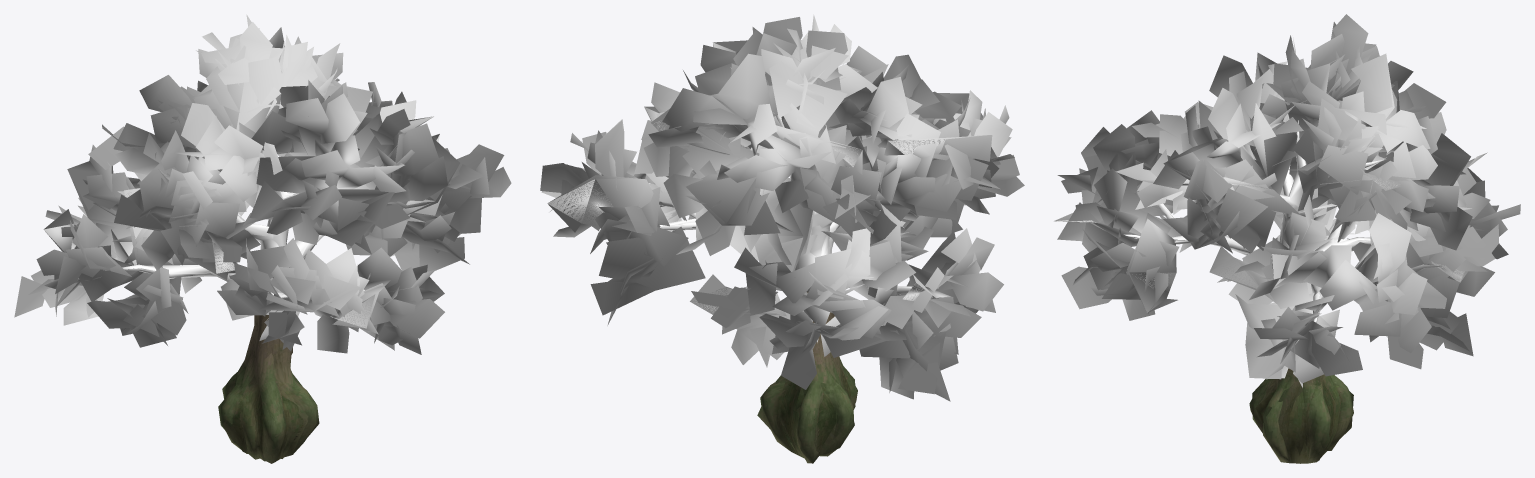
Rendered from plants_me_tree_oak01.gltf.
3 views of the same model, side by side, from view 1: azimuth 30°, elevation 25°; view 2: azimuth 150°, elevation 25°; view 3: azimuth 270°, elevation 25° (orthographic). The views are drawn at different scales.
Visible parts, largest first — view 1: um_plants_me_tree_oak01_model_lod0Shape:plants_oak02_branch0, um_plants_me_tree_oak01_model_lod1Shape:plants_oak02_branch0, um_plants_me_tree_oak01_model_lod0Shape:plants_me_tree_oak01, um_plants_me_tree_oak01_model_lod1Shape:plants_me_tree_oak01, um_plants_me_tree_oak01_model_lod0Shape:plants_oak01_trunk01, um_plants_me_tree_oak01_model_lod1Shape:plants_oak01_trunk01; view 2: um_plants_me_tree_oak01_model_lod0Shape:plants_oak02_branch0, um_plants_me_tree_oak01_model_lod1Shape:plants_oak02_branch0, um_plants_me_tree_oak01_model_lod0Shape:plants_me_tree_oak01, um_plants_me_tree_oak01_model_lod1Shape:plants_me_tree_oak01, um_plants_me_tree_oak01_model_lod0Shape:plants_oak01_trunk01, um_plants_me_tree_oak01_model_lod1Shape:plants_oak01_trunk01; view 3: um_plants_me_tree_oak01_model_lod0Shape:plants_oak02_branch0, um_plants_me_tree_oak01_model_lod1Shape:plants_oak02_branch0, um_plants_me_tree_oak01_model_lod0Shape:plants_me_tree_oak01, um_plants_me_tree_oak01_model_lod1Shape:plants_me_tree_oak01, um_plants_me_tree_oak01_model_lod0Shape:plants_oak01_trunk01, um_plants_me_tree_oak01_model_lod1Shape:plants_oak01_trunk01.
Part boxes in pixels (left/top/right/bottom): um_plants_me_tree_oak01_model_lod0Shape:plants_oak02_branch0: left=14, top=14, right=511, bottom=354; um_plants_me_tree_oak01_model_lod1Shape:plants_oak02_branch0: left=43, top=27, right=503, bottom=349; um_plants_me_tree_oak01_model_lod0Shape:plants_me_tree_oak01: left=221, top=315, right=316, bottom=463; um_plants_me_tree_oak01_model_lod1Shape:plants_me_tree_oak01: left=218, top=314, right=319, bottom=461; um_plants_me_tree_oak01_model_lod0Shape:plants_oak01_trunk01: left=103, top=191, right=364, bottom=298; um_plants_me_tree_oak01_model_lod1Shape:plants_oak01_trunk01: left=108, top=190, right=314, bottom=298; um_plants_me_tree_oak01_model_lod0Shape:plants_oak02_branch0: left=540, top=14, right=1024, bottom=401; um_plants_me_tree_oak01_model_lod1Shape:plants_oak02_branch0: left=540, top=23, right=1007, bottom=400; um_plants_me_tree_oak01_model_lod0Shape:plants_me_tree_oak01: left=760, top=312, right=857, bottom=463; um_plants_me_tree_oak01_model_lod1Shape:plants_me_tree_oak01: left=757, top=291, right=855, bottom=463; um_plants_me_tree_oak01_model_lod0Shape:plants_oak01_trunk01: left=659, top=116, right=938, bottom=293; um_plants_me_tree_oak01_model_lod1Shape:plants_oak01_trunk01: left=659, top=115, right=907, bottom=294; um_plants_me_tree_oak01_model_lod0Shape:plants_oak02_branch0: left=1054, top=14, right=1520, bottom=387; um_plants_me_tree_oak01_model_lod1Shape:plants_oak02_branch0: left=1055, top=22, right=1498, bottom=373; um_plants_me_tree_oak01_model_lod0Shape:plants_me_tree_oak01: left=1249, top=368, right=1353, bottom=463; um_plants_me_tree_oak01_model_lod1Shape:plants_me_tree_oak01: left=1252, top=374, right=1353, bottom=463; um_plants_me_tree_oak01_model_lod0Shape:plants_oak01_trunk01: left=1124, top=121, right=1385, bottom=322; um_plants_me_tree_oak01_model_lod1Shape:plants_oak01_trunk01: left=1134, top=120, right=1382, bottom=322.
Bounding box in the file's own units: 37.37 × 33.59 × 33.46.
5 materials, 2 textured.
